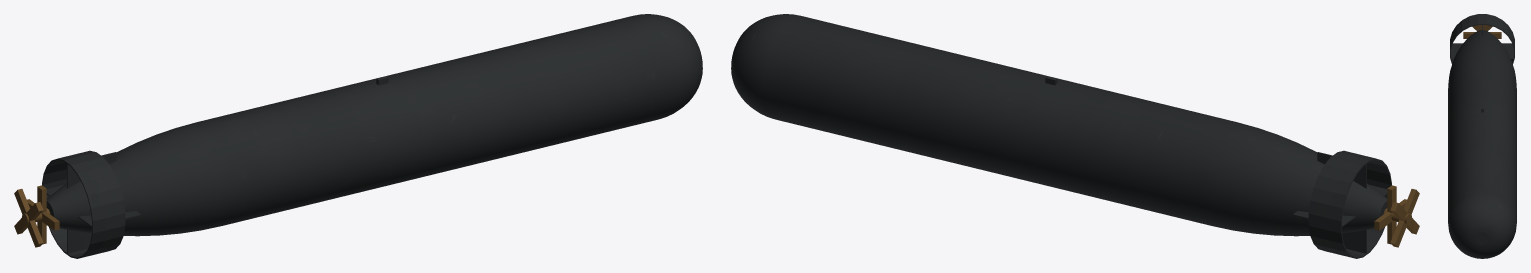
The picture shows the model from 3 angles, left to right: view 1: azimuth 30°, elevation 25°; view 2: azimuth 150°, elevation 25°; view 3: azimuth 270°, elevation 25°; orthographic projection. The views are drawn at different scales.
Visible parts, largest first — view 1: mk13; view 2: mk13; view 3: mk13.
Boxes of the visible parts, bbox=[...] form: mk13: bbox=[14, 14, 702, 258]; mk13: bbox=[731, 14, 1419, 258]; mk13: bbox=[1448, 14, 1516, 258].
Size of the model in its own units: 4.09 by 0.599 by 0.569.
Materials: 1 (1 with a texture image).
